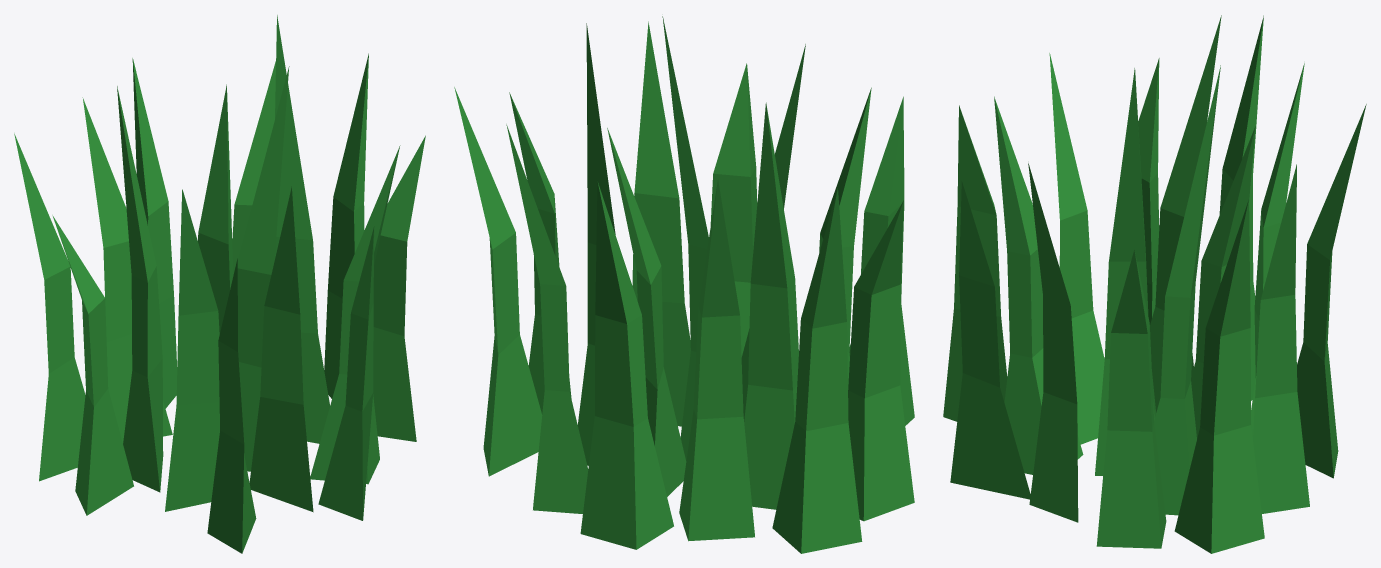
The model's file is Grass_2_Green.fbx.
3 renders of one model, left to right at view 1: azimuth 30°, elevation 25°; view 2: azimuth 150°, elevation 25°; view 3: azimuth 270°, elevation 25°, orthographic. The views are drawn at different scales.
Parts seen in each view (by area): view 1: Grass_2_Green; view 2: Grass_2_Green; view 3: Grass_2_Green.
Part boxes in pixels (x1,y1,x2,y2): Grass_2_Green: (14, 15, 425, 553); Grass_2_Green: (454, 16, 914, 553); Grass_2_Green: (943, 15, 1366, 553).
Bounding box in the file's own units: 45.15 × 48.36 × 42.27.
